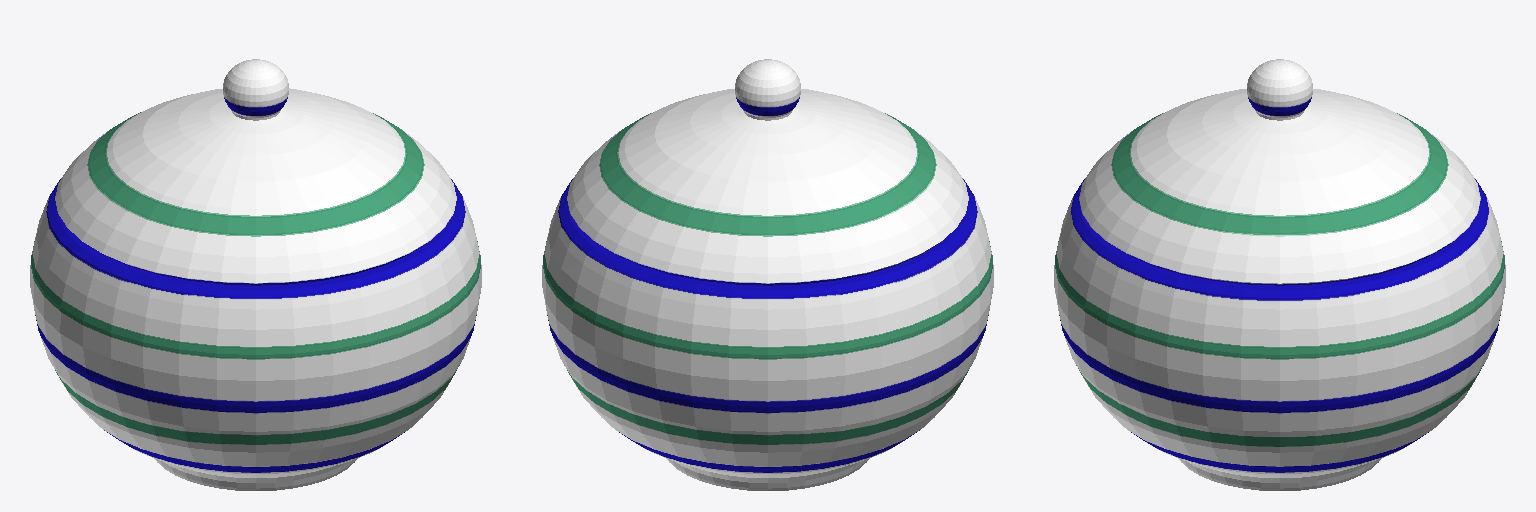
The picture shows the model from 3 angles: view 1: azimuth 30°, elevation 25°; view 2: azimuth 150°, elevation 25°; view 3: azimuth 270°, elevation 25°; orthographic projection.
Size of the model in its own units: 39.77 by 37.55 by 39.77.
1 materials, 1 textured.